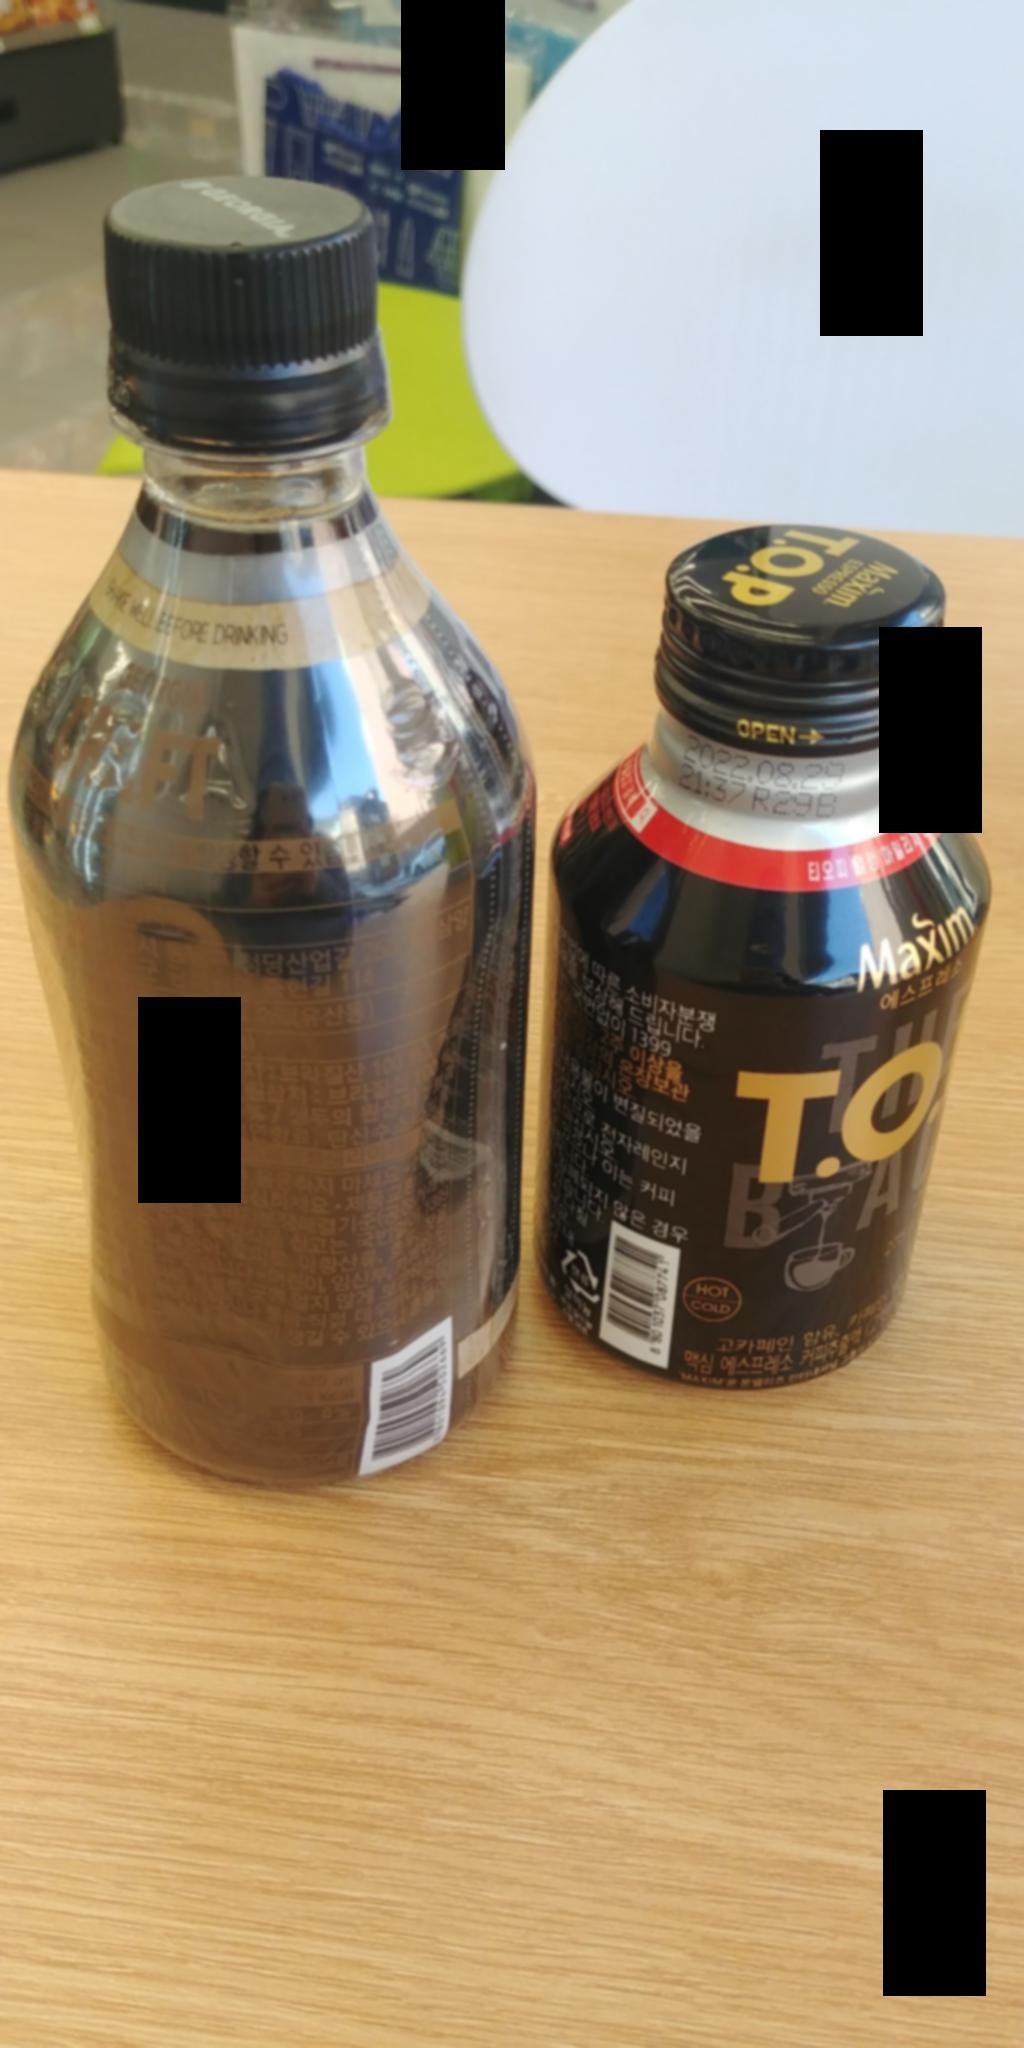TOP_black: (529, 512, 976, 1398)
georgiacraft_black: (1, 152, 552, 1484)
